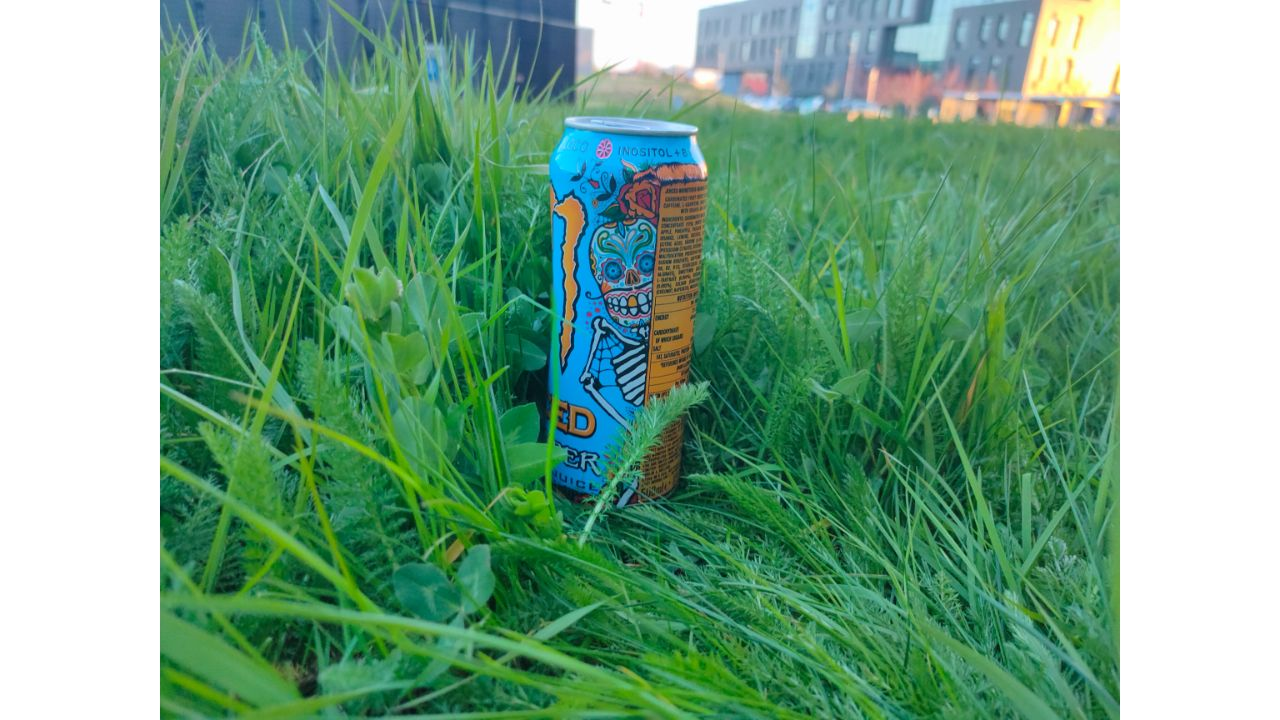Can: (545, 112, 705, 508)
